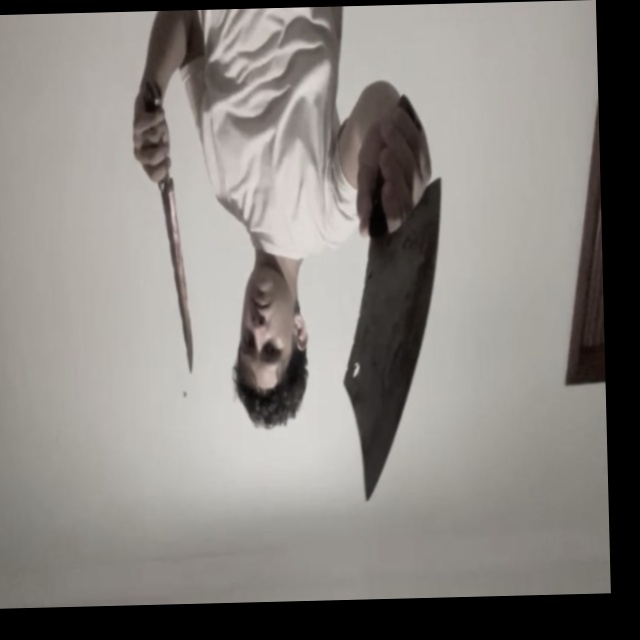Sharp-Object: (336, 177, 451, 506), (160, 178, 194, 378)
